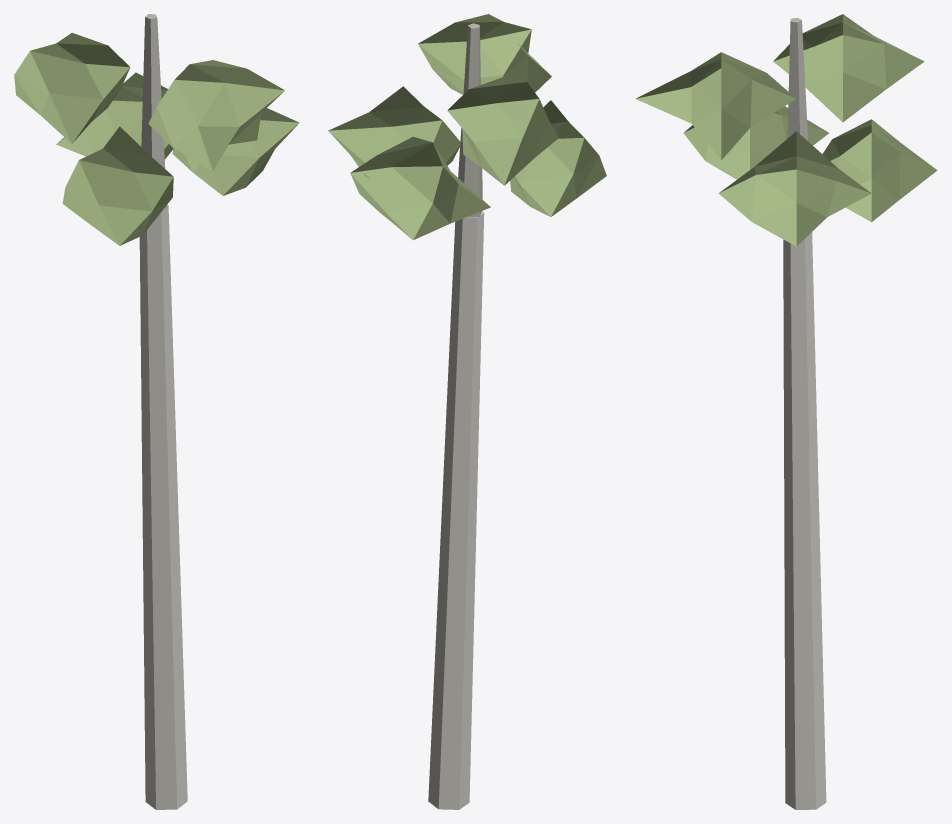
The model's file is birch_v01.glb.
3 renders of one model, left to right at view 1: azimuth 30°, elevation 25°; view 2: azimuth 150°, elevation 25°; view 3: azimuth 270°, elevation 25°, orthographic. The views are drawn at different scales.
Visible parts, largest first — view 1: lod0; view 2: lod0; view 3: lod0.
Part boxes in pixels (x1=…): lod0: x1=14, y1=14, x2=299, y2=809; lod0: x1=328, y1=14, x2=606, y2=809; lod0: x1=635, y1=14, x2=937, y2=809.
Size of what is drawn, in the model's own units: 1.86 by 5.41 by 1.91.
